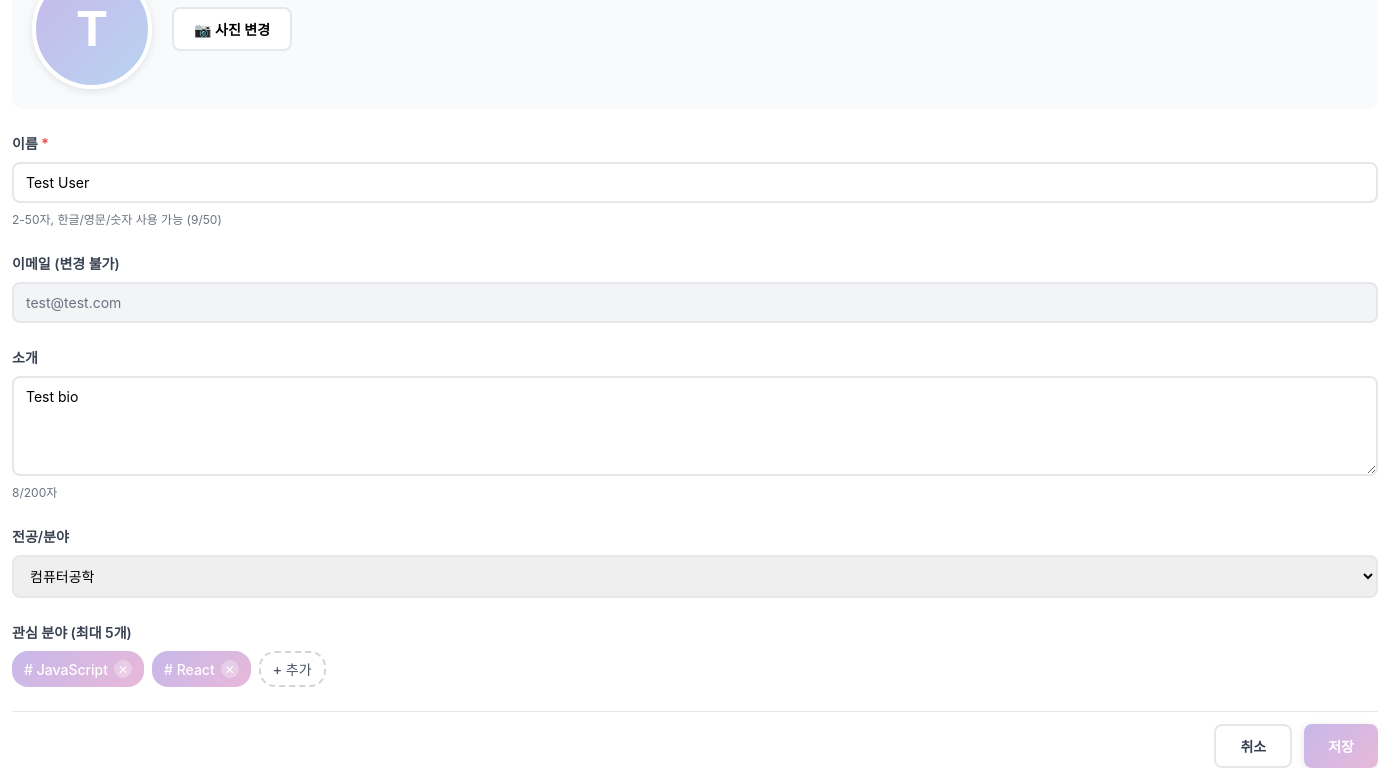
Test: ProfileEdit Component › 프로필 저장 테스트 › 프로필 저장 성공
(page scrolled)
Click the button "저장": (1341, 746) [1304,724,1378,767]
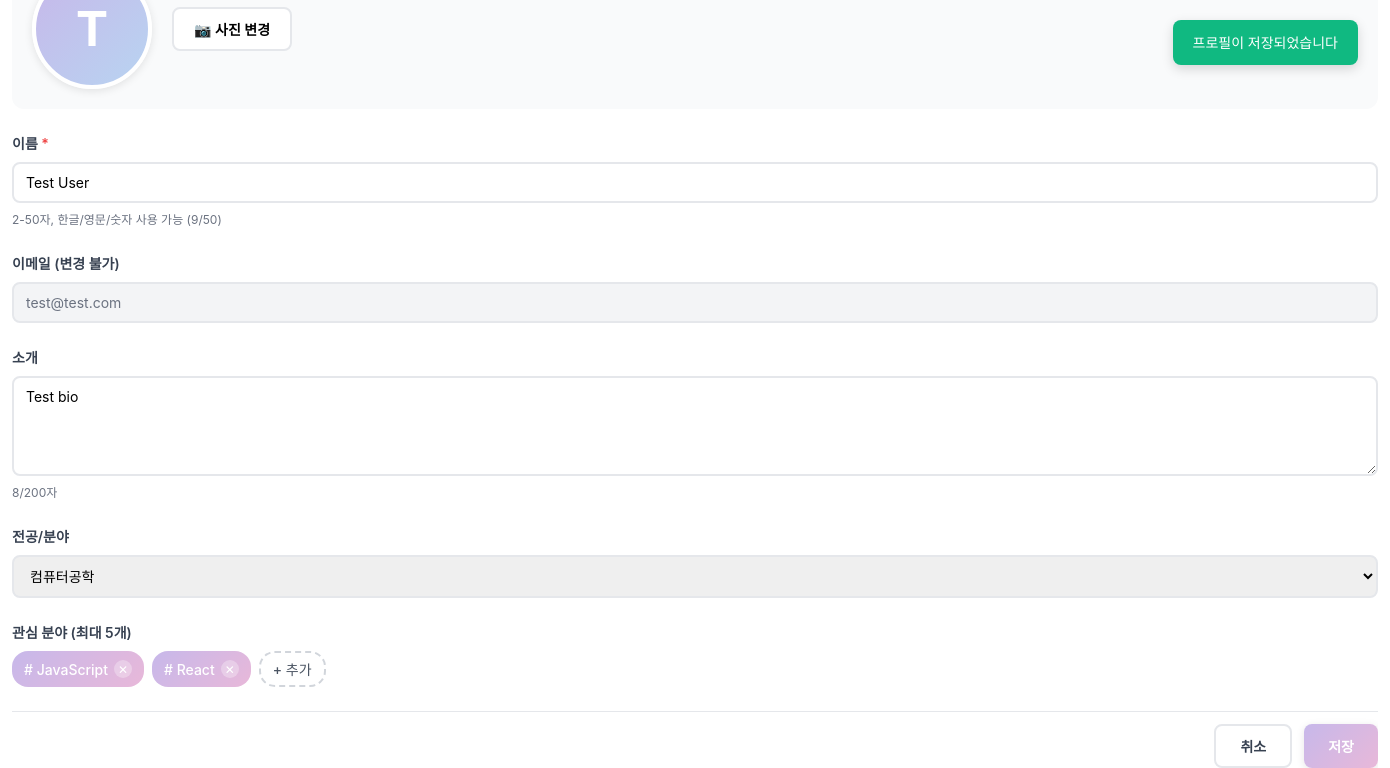
Expected: the text "프로필이 저장되었습니다" is shown, [1173,20,1358,65]
